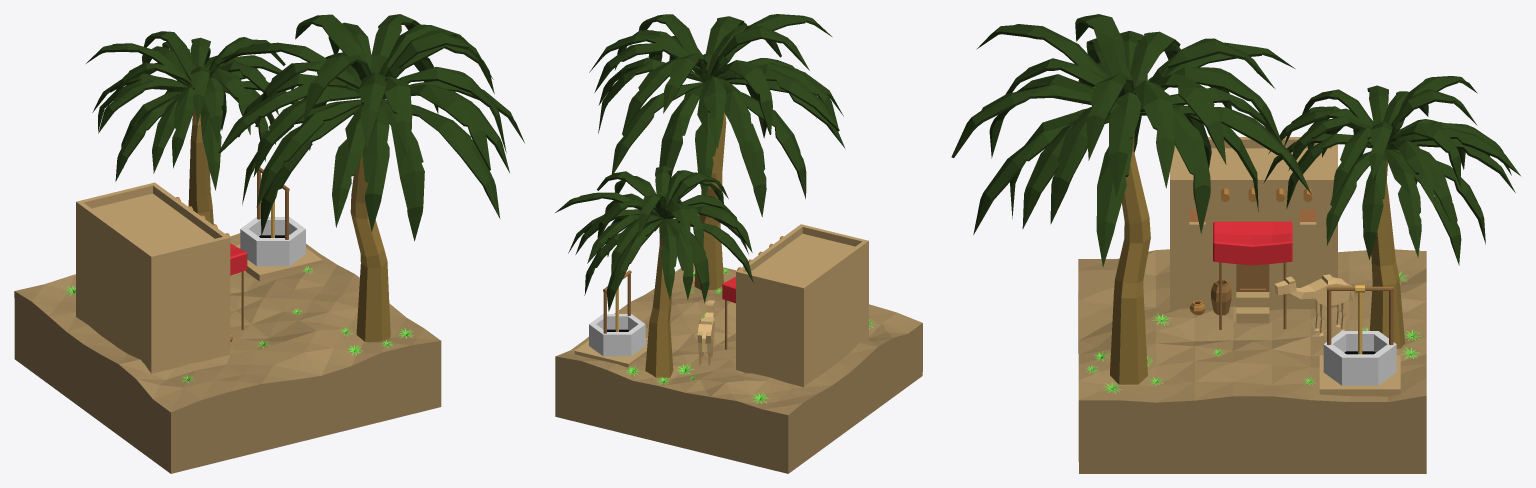
The model's file is Desert.fbx.
3 renders of one model, left to right at view 1: azimuth 30°, elevation 25°; view 2: azimuth 150°, elevation 25°; view 3: azimuth 270°, elevation 25°, orthographic. The views are drawn at different scales.
Parts seen in each view (by area): view 1: Floor, TreeB, Building, TreeA, Woo, WooF; view 2: Floor, TreeB, Building, TreeA, Woo, NakTa, WooF; view 3: Floor, TreeB, TreeA, Building, Woo, 1000, NakTa, WooF, Stair, Door.
Boxes of the visible parts, x1=… form: Floor: x1=14, y1=233, x2=441, y2=473; TreeB: x1=214, y1=14, x2=524, y2=342; Building: x1=76, y1=182, x2=230, y2=373; TreeA: x1=86, y1=31, x2=299, y2=224; Woo: x1=240, y1=167, x2=305, y2=266; WooF: x1=235, y1=244, x2=322, y2=281; Floor: x1=555, y1=263, x2=922, y2=473; TreeB: x1=589, y1=14, x2=845, y2=289; Building: x1=736, y1=224, x2=868, y2=387; TreeA: x1=555, y1=166, x2=753, y2=377; Woo: x1=589, y1=270, x2=645, y2=356; NakTa: x1=697, y1=300, x2=714, y2=366; WooF: x1=574, y1=338, x2=647, y2=367; Floor: x1=1078, y1=249, x2=1426, y2=473; TreeB: x1=951, y1=14, x2=1311, y2=384; TreeA: x1=1263, y1=76, x2=1520, y2=348; Building: x1=1170, y1=137, x2=1337, y2=310; Woo: x1=1323, y1=285, x2=1396, y2=385; 1000: x1=1213, y1=221, x2=1292, y2=265; NakTa: x1=1274, y1=274, x2=1355, y2=336; WooF: x1=1319, y1=355, x2=1400, y2=396; Stair: x1=1236, y1=292, x2=1269, y2=323; Door: x1=1236, y1=264, x2=1269, y2=291.
Bounding box in the file's own units: 153 × 147 × 186.
